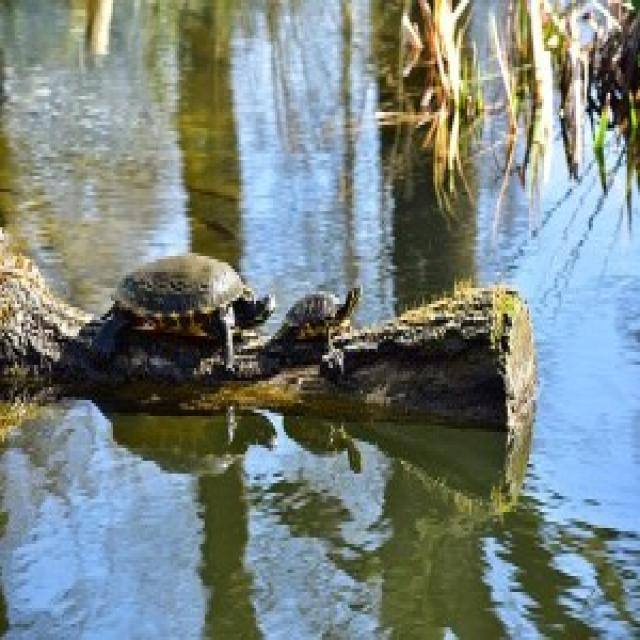Sea turtle: (84, 246, 274, 364), (275, 282, 371, 348)
